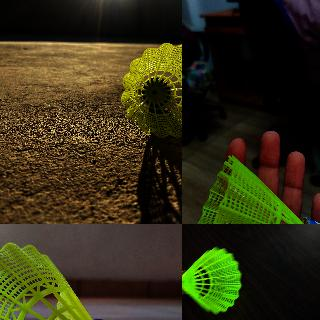shuttlecock: (0, 242, 142, 319), (188, 153, 319, 223), (120, 42, 181, 138), (182, 246, 241, 315)
